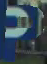Parking: (0, 1, 43, 58)
